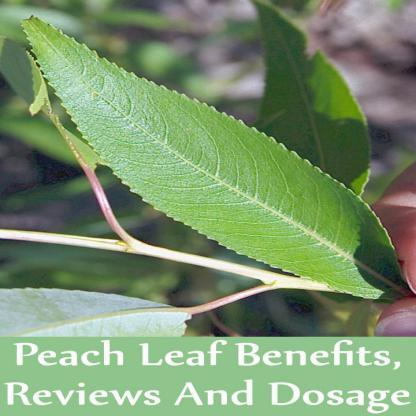Peach leaf: (23, 16, 404, 304)
